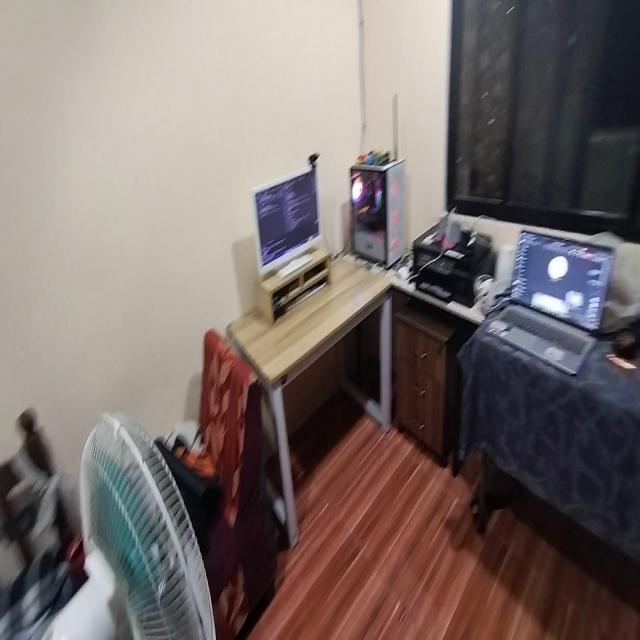table: (236, 255, 397, 533)
